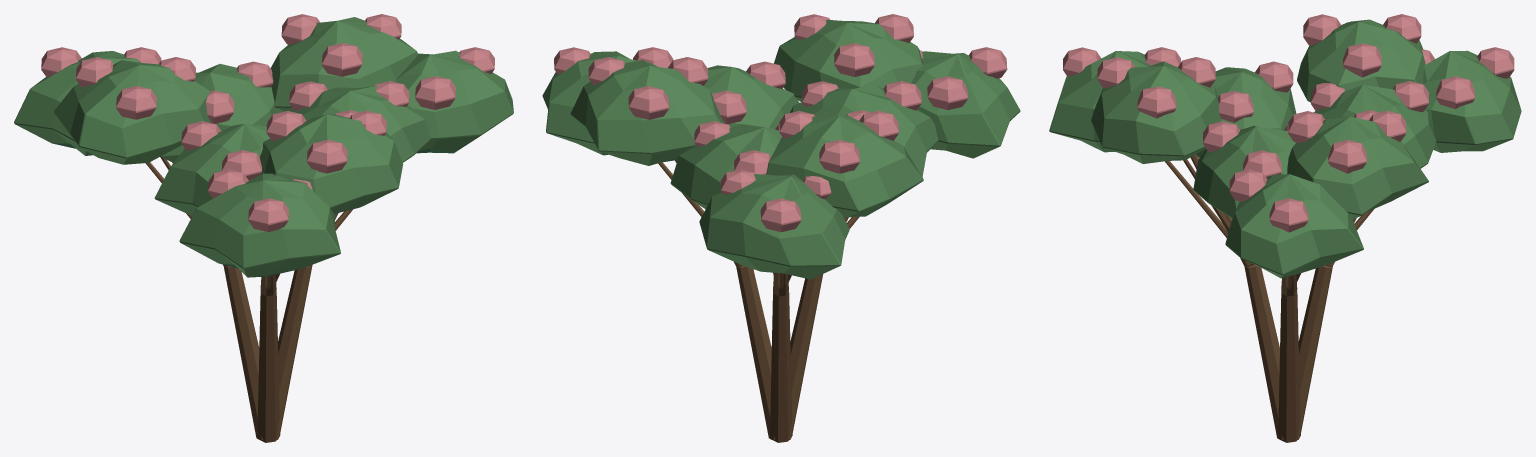
The model's file is b08_eastern_redbud.glb.
3 renders of one model, left to right at view 1: azimuth 30°, elevation 25°; view 2: azimuth 150°, elevation 25°; view 3: azimuth 270°, elevation 25°, orthographic.
Parts seen in each view (by area): view 1: b08_eastern_redbud; view 2: b08_eastern_redbud; view 3: b08_eastern_redbud.
Boxes of the visible parts, x1=… form: b08_eastern_redbud: x1=14, y1=14, x2=513, y2=442; b08_eastern_redbud: x1=542, y1=14, x2=1020, y2=442; b08_eastern_redbud: x1=1049, y1=14, x2=1521, y2=442.
Size of the model in its own units: 3.91 by 3.4 by 3.93.
